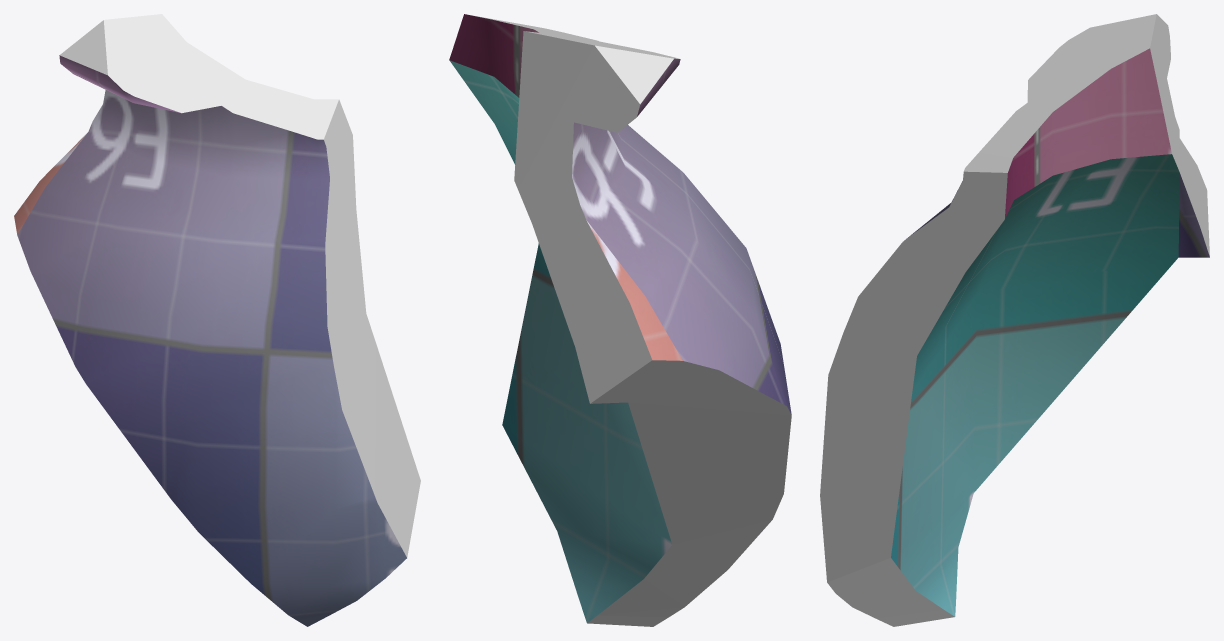
The model's file is RoundVase_SHAT_cell_020.fbx.
The picture shows the model from 3 angles, left to right: view 1: azimuth 30°, elevation 25°; view 2: azimuth 150°, elevation 25°; view 3: azimuth 270°, elevation 25°; orthographic projection. The views are drawn at different scales.
Parts seen in each view (by area): view 1: RoundVase_SHAT_cell_020; view 2: RoundVase_SHAT_cell_020; view 3: RoundVase_SHAT_cell_020.
Part boxes in pixels (box(x1,y1,x2,y2)): RoundVase_SHAT_cell_020: box(14, 14, 420, 626); RoundVase_SHAT_cell_020: box(449, 14, 791, 626); RoundVase_SHAT_cell_020: box(820, 14, 1209, 626).
Bounding box in the file's own units: 0.3595 × 0.6648 × 0.4113.
Materials: 2 (1 with a texture image).
